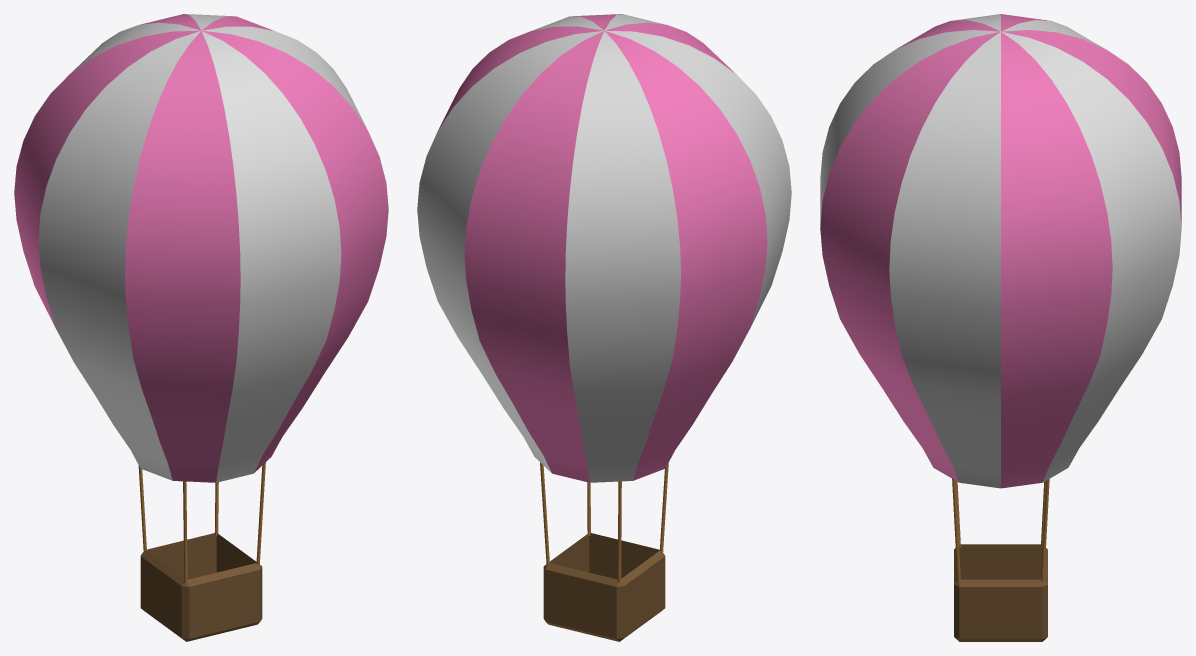
File: baloon-BemKKF8i.glb
3 views of the same model, side by side, from view 1: azimuth 30°, elevation 25°; view 2: azimuth 150°, elevation 25°; view 3: azimuth 270°, elevation 25° (orthographic).
Visible parts, largest first — view 1: Basket1; view 2: Basket1; view 3: Basket1.
Boxes of the visible parts, x1=… form: Basket1: x1=14, y1=14, x2=388, y2=641; Basket1: x1=417, y1=14, x2=791, y2=641; Basket1: x1=820, y1=14, x2=1181, y2=641.
Size of the model in its own units: 13.52 by 23.27 by 12.86.
Materials: 1 (1 with a texture image).
